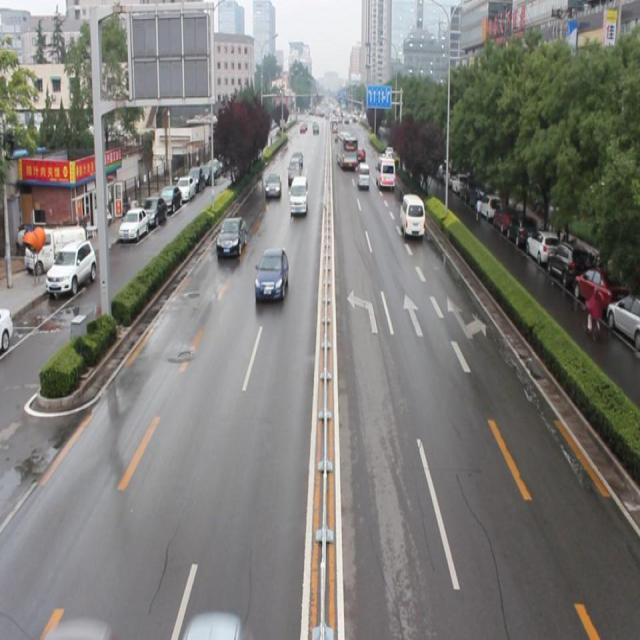car: (252, 248, 289, 306), (215, 215, 247, 259), (264, 172, 281, 198)
truck: (400, 192, 424, 238), (288, 176, 308, 213), (374, 154, 394, 186), (355, 163, 369, 190), (287, 157, 301, 182)
